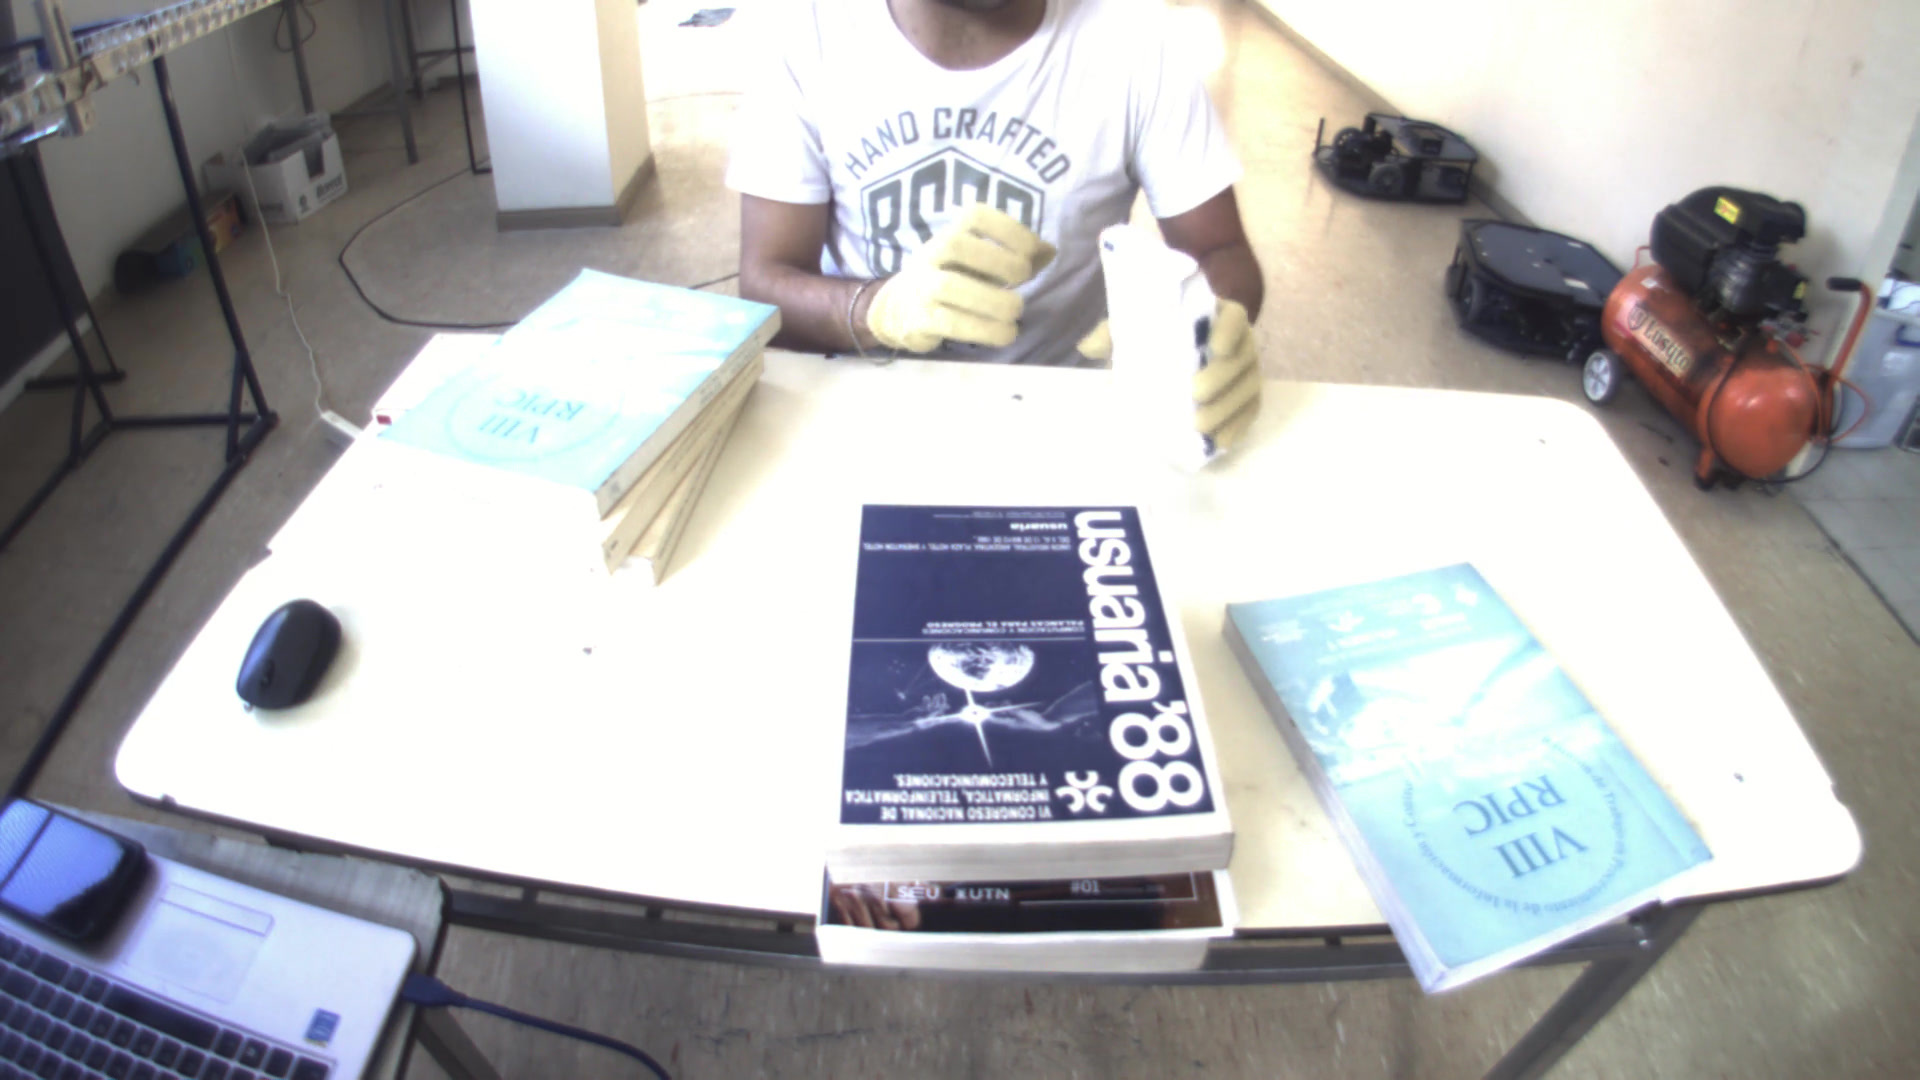hand: (866, 193, 1063, 356), (1189, 297, 1280, 462)
